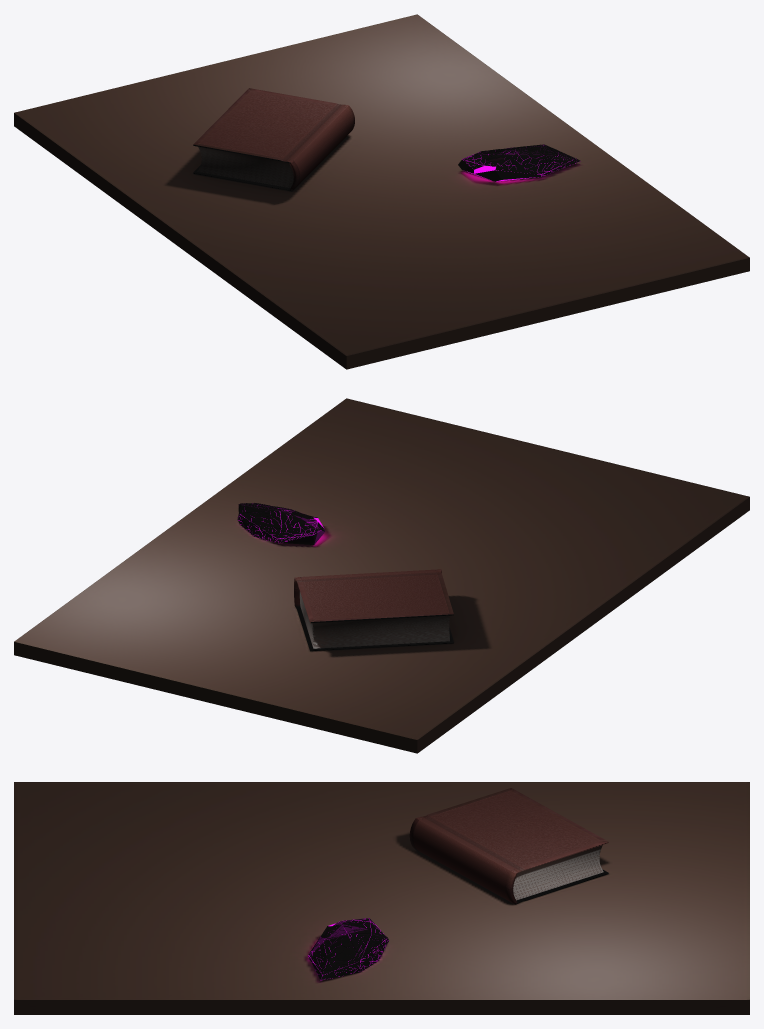
The model's file is models.glb.
The picture shows the model from 3 angles, top to bottom: view 1: azimuth 30°, elevation 25°; view 2: azimuth 150°, elevation 25°; view 3: azimuth 270°, elevation 25°; orthographic projection. The views are drawn at different scales.
Visible parts, largest first — view 1: Desk, Book, Crystal Top; view 2: Desk, Book, Crystal Top; view 3: Desk, Book, Crystal Top, Crystal Inner.
Boxes of the visible parts, <box> form: Desk: <box>14,14,749,369</box>; Book: <box>193,88,354,191</box>; Crystal Top: <box>458,144,580,181</box>; Desk: <box>14,398,749,753</box>; Book: <box>294,569,453,651</box>; Crystal Top: <box>237,503,325,544</box>; Desk: <box>14,782,749,1014</box>; Book: <box>409,788,608,904</box>; Crystal Top: <box>308,918,388,980</box>; Crystal Inner: <box>308,918,388,980</box>.
Size of the model in its own units: 7.84 by 0.8008 by 11.19.
5 materials, 5 textured.
